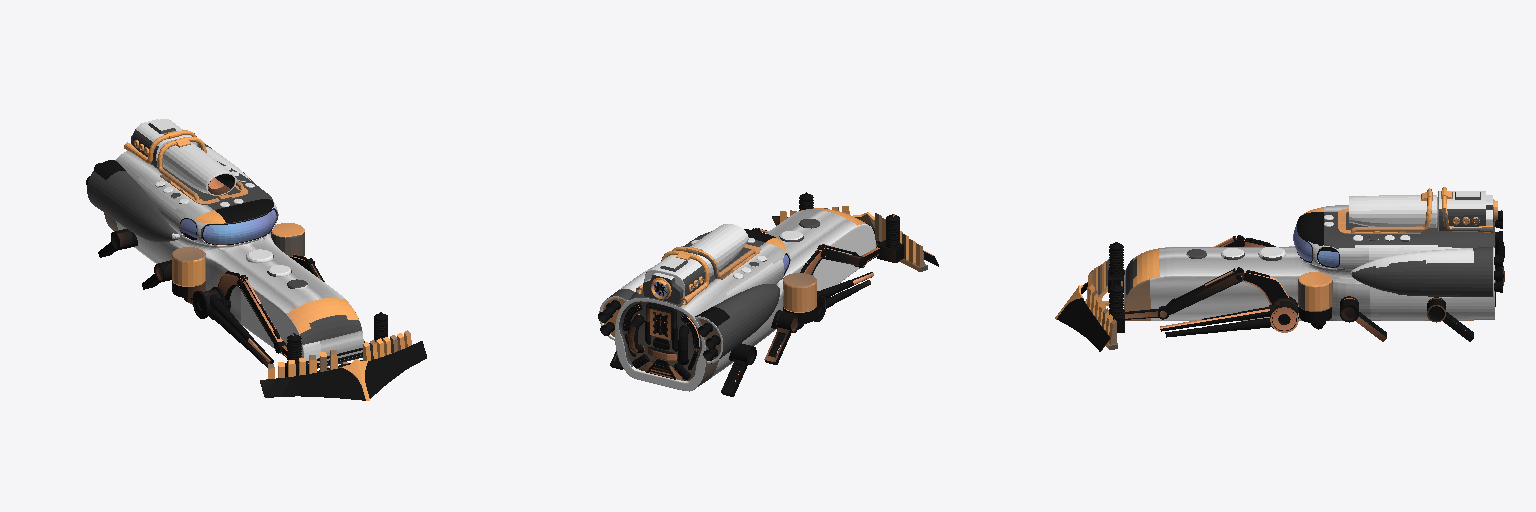
The picture shows the model from 3 angles: view 1: azimuth 30°, elevation 25°; view 2: azimuth 150°, elevation 25°; view 3: azimuth 270°, elevation 25°; orthographic projection.
Visible parts, largest first — view 1: truck1; view 2: truck1; view 3: truck1.
Boxes of the visible parts, x1=… form: truck1: x1=86, y1=119, x2=426, y2=400; truck1: x1=598, y1=192, x2=938, y2=396; truck1: x1=1055, y1=187, x2=1504, y2=351.
Size of the model in its own units: 2.4 by 1.79 by 5.74.
1 materials, 1 textured.